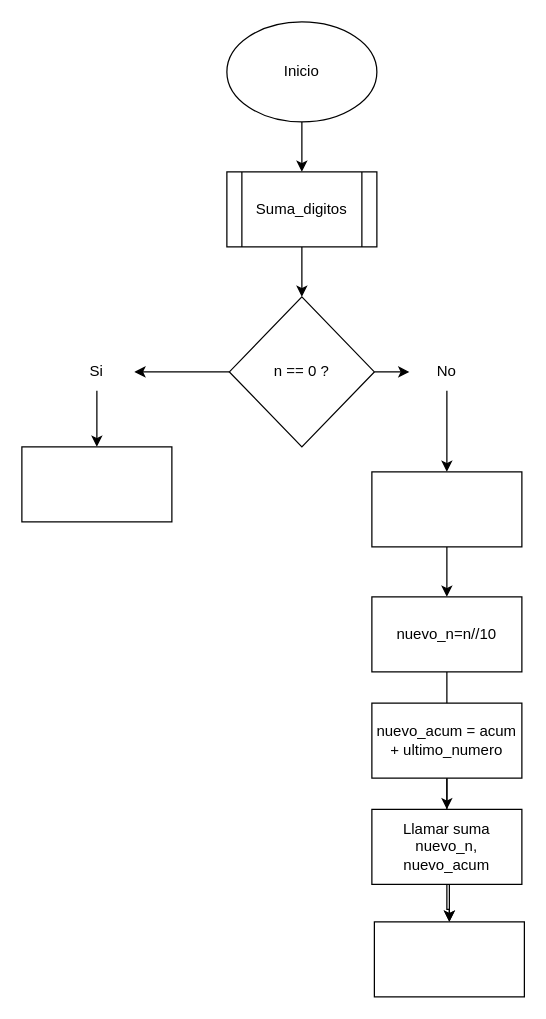
This 546x1019 diagram has some shape labels left out. Each missing label, with the centre of its shape:
"Devuelve acum" belongs at point 96,484.
"Retornar resultado recursion" belongs at point 448,959.
"ultimo numero = n%10" belongs at point 446,509.
